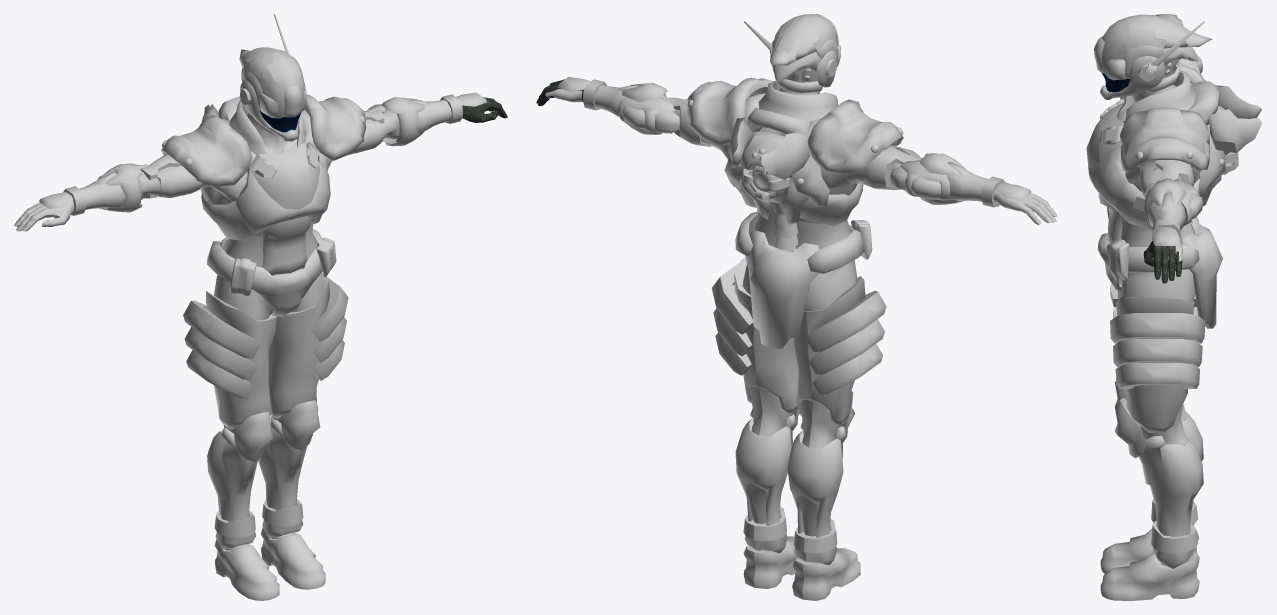
File: vanquish.obj
The picture shows the model from 3 angles, left to right: view 1: azimuth 30°, elevation 25°; view 2: azimuth 150°, elevation 25°; view 3: azimuth 270°, elevation 25°; orthographic projection. The views are drawn at different scales.
Visible parts, largest first — view 1: Model001_24_Outersuitlowerd_1.0_0.0_0.0, Model001_24_Outersuitupperd_1.0_0.0_0.0, object 6, Model001_24_Innersuitd_1.0_0.0_0.0; view 2: Model001_24_Outersuitlowerd_1.0_0.0_0.0, Model001_24_Outersuitupperd_1.0_0.0_0.0, object 6; view 3: Model001_24_Outersuitlowerd_1.0_0.0_0.0, Model001_24_Outersuitupperd_1.0_0.0_0.0, object 6, Model001_24_Innersuitd_1.0_0.0_0.0, Model001_24_Visor_1.0_0.0_0.0.
Part boxes in pixels (x1,y1,x2,y2): Model001_24_Outersuitlowerd_1.0_0.0_0.0: [183, 99, 348, 600]; Model001_24_Outersuitupperd_1.0_0.0_0.0: [39, 14, 486, 215]; object 6: [14, 110, 399, 550]; Model001_24_Innersuitd_1.0_0.0_0.0: [462, 97, 507, 122]; Model001_24_Outersuitlowerd_1.0_0.0_0.0: [711, 81, 886, 600]; Model001_24_Outersuitupperd_1.0_0.0_0.0: [558, 14, 1031, 224]; object 6: [545, 67, 1057, 565]; Model001_24_Outersuitlowerd_1.0_0.0_0.0: [1086, 70, 1222, 600]; Model001_24_Outersuitupperd_1.0_0.0_0.0: [1094, 14, 1262, 245]; object 6: [1119, 15, 1201, 567]; Model001_24_Innersuitd_1.0_0.0_0.0: [1143, 241, 1182, 283]; Model001_24_Visor_1.0_0.0_0.0: [1102, 73, 1130, 92].
Bounding box in the file's own units: 1.76 × 1.85 × 0.5131.
